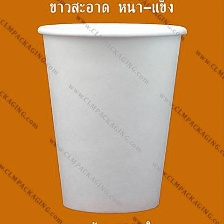paper_cup: (32, 18, 190, 217)
